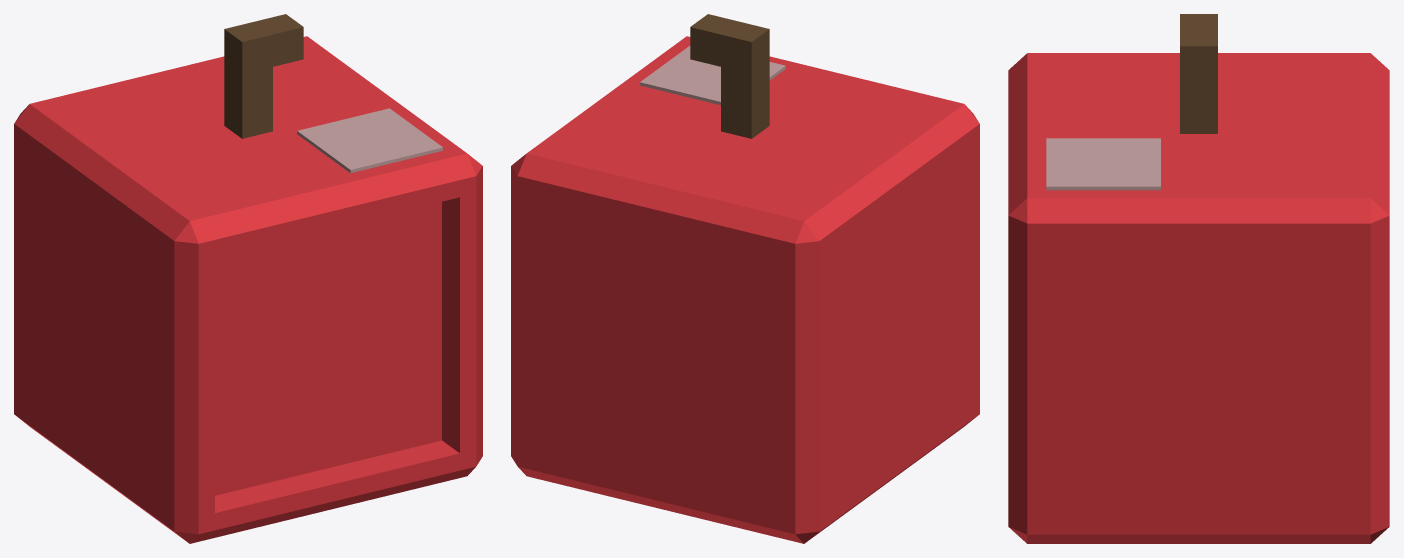
File: fruit.fbx
The picture shows the model from 3 angles, left to right: view 1: azimuth 30°, elevation 25°; view 2: azimuth 150°, elevation 25°; view 3: azimuth 270°, elevation 25°; orthographic projection. The views are drawn at different scales.
Parts seen in each view (by area): view 1: fruit_GEO, stem_GEO, highlight_GEO; view 2: fruit_GEO, stem_GEO, highlight_GEO; view 3: fruit_GEO, highlight_GEO, stem_GEO.
Part boxes in pixels (box(x1,y1,x2,y2)): fruit_GEO: box(14, 36, 482, 543); stem_GEO: box(224, 14, 303, 138); highlight_GEO: box(297, 108, 442, 173); fruit_GEO: box(511, 36, 979, 543); stem_GEO: box(690, 14, 769, 138); highlight_GEO: box(640, 45, 785, 105); fruit_GEO: box(1008, 53, 1389, 543); highlight_GEO: box(1046, 138, 1160, 190); stem_GEO: box(1180, 14, 1217, 133).
Size of the model in its own units: 1 by 1.3 by 1.
